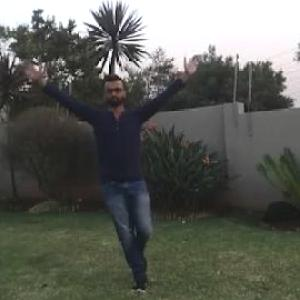takeoff: (23, 60, 198, 282)
